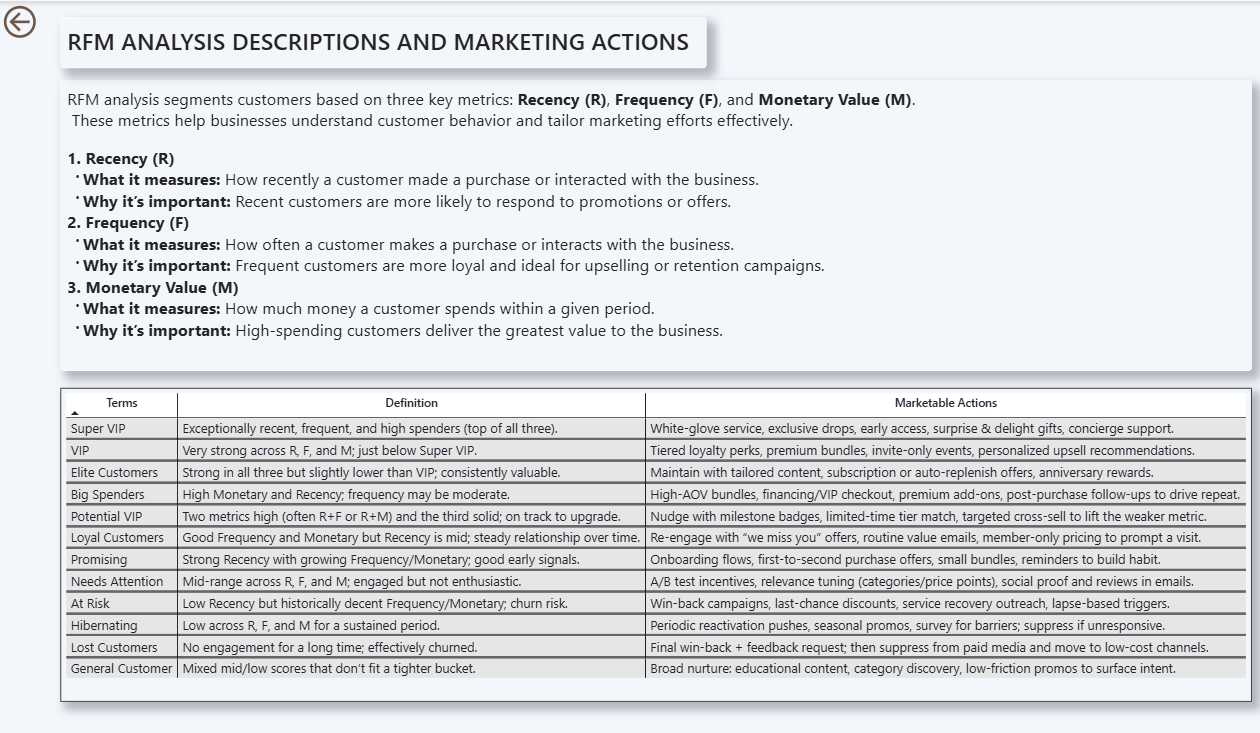

The dashboard page shown, as its layout file describes it:
{"tool":"powerbi","page":{"name":"Glossary","canvas":[1450,850],"ordinal":2},"visuals":[{"type":"textbox","box":[69.6,19.4,740,58.3],"z":0},{"type":"textbox","box":[70.7,91.8,1364.9,332.6],"z":1000},{"type":"tableEx","fields":{"Values":["Definitions.Terms","Definitions.Definition","Definitions.Marketable Actions"]},"box":[70.5,443.3,1364.4,359.1],"z":2000},{"type":"actionButton","box":[0,0,68.8,47.8],"z":3000}]}

Visuals, with their boxes on the page's 1450x850 design canvas (x1, y1, x2, y2). These are canvas units, not pixel positions in the 1260x733 screenshot, which may show the page scaled, cropped or inside an application window:
textbox: 70:19:810:78
textbox: 71:92:1436:424
tableEx - Definitions.Terms x Definitions.Definition: 70:443:1435:802
actionButton: 0:0:69:48
